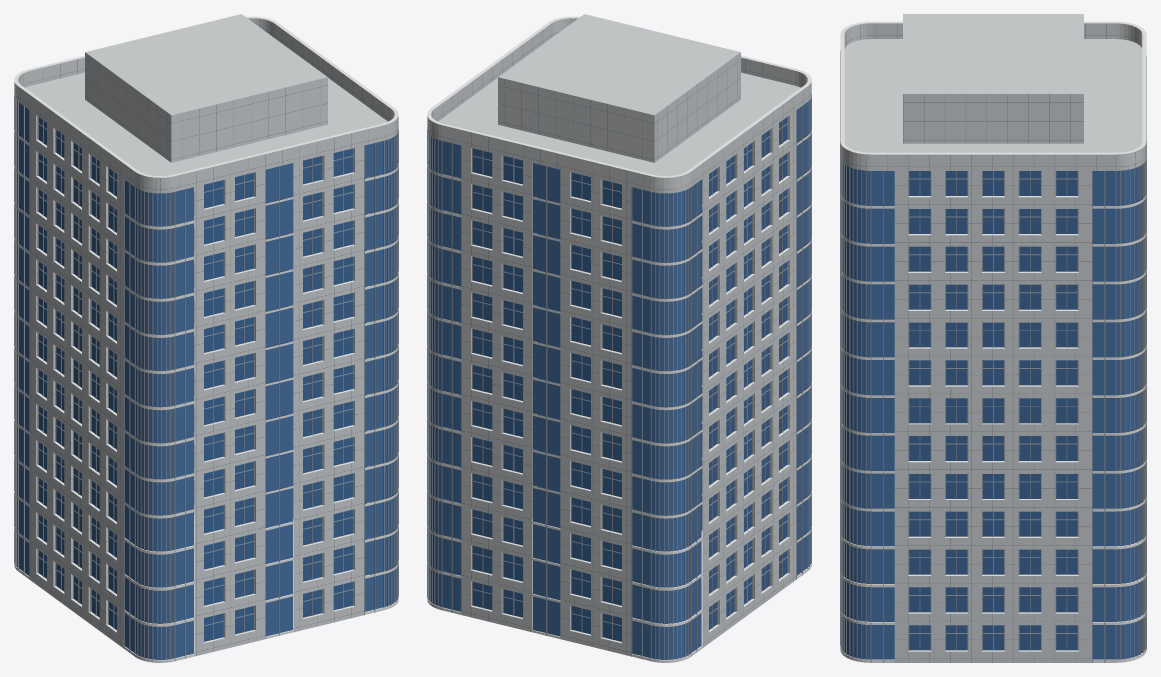
3 renders of one model, left to right at view 1: azimuth 30°, elevation 25°; view 2: azimuth 150°, elevation 25°; view 3: azimuth 270°, elevation 25°, orthographic. The views are drawn at different scales.
Parts seen in each view (by area): view 1: Tower B; view 2: Tower B; view 3: Tower B.
Boxes of the visible parts, bbox=[...] form: Tower B: bbox=[14, 14, 398, 662]; Tower B: bbox=[427, 14, 811, 662]; Tower B: bbox=[840, 14, 1146, 662].
Bounding box in the file's own units: 22.64 × 43 × 22.04.
Materials: 6 (1 with a texture image).
